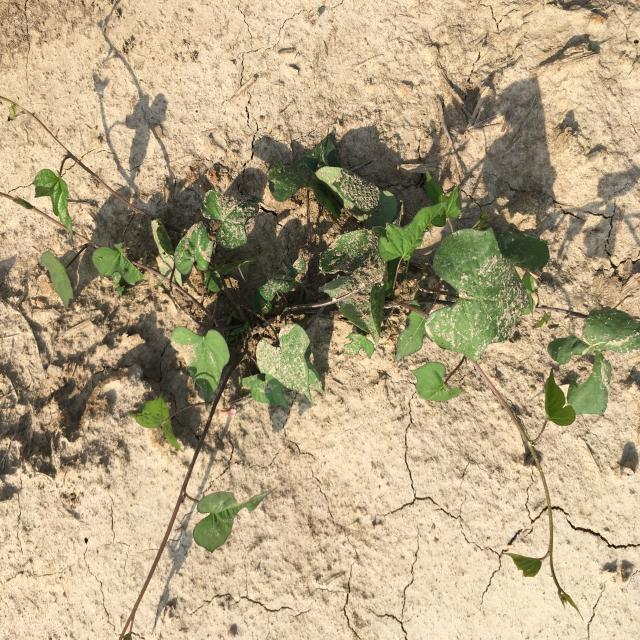MorningGlory: (0, 95, 639, 639)
